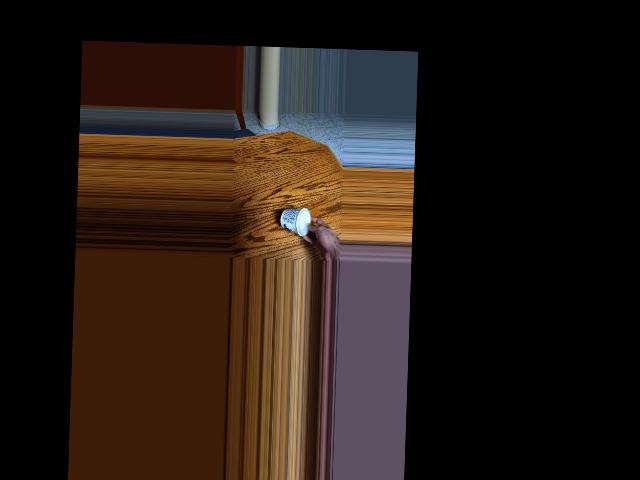cotage: (276, 201, 308, 232)
